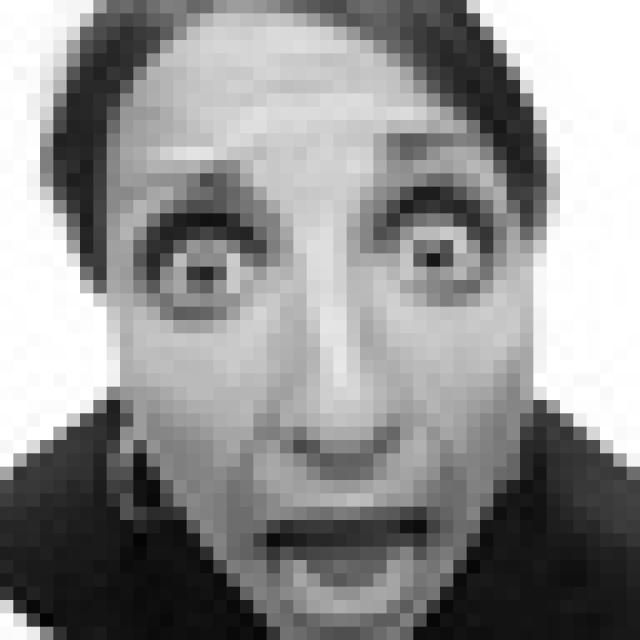angry: (124, 119, 507, 640)
